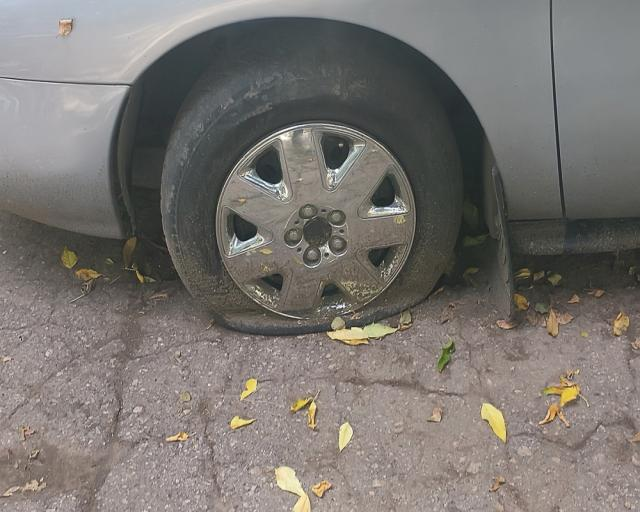tire flat: (161, 26, 462, 335)
